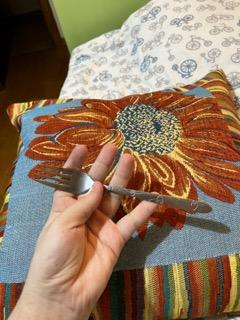fork: (32, 161, 213, 217)
